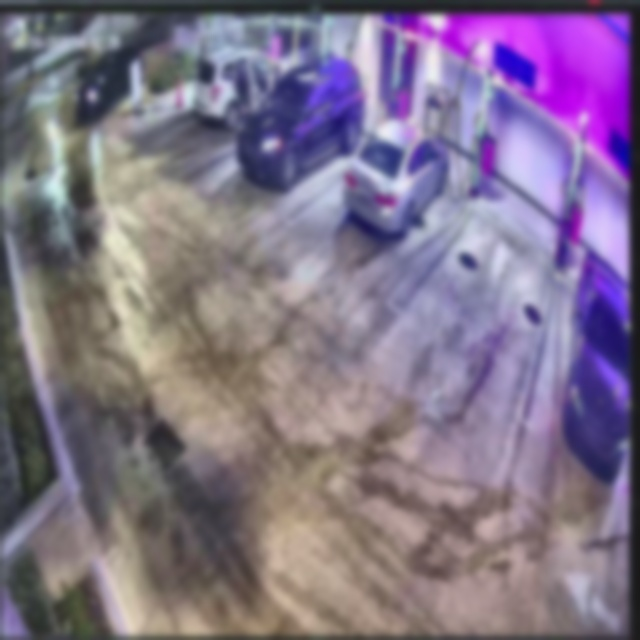Car: (236, 59, 366, 192), (342, 120, 449, 235)
